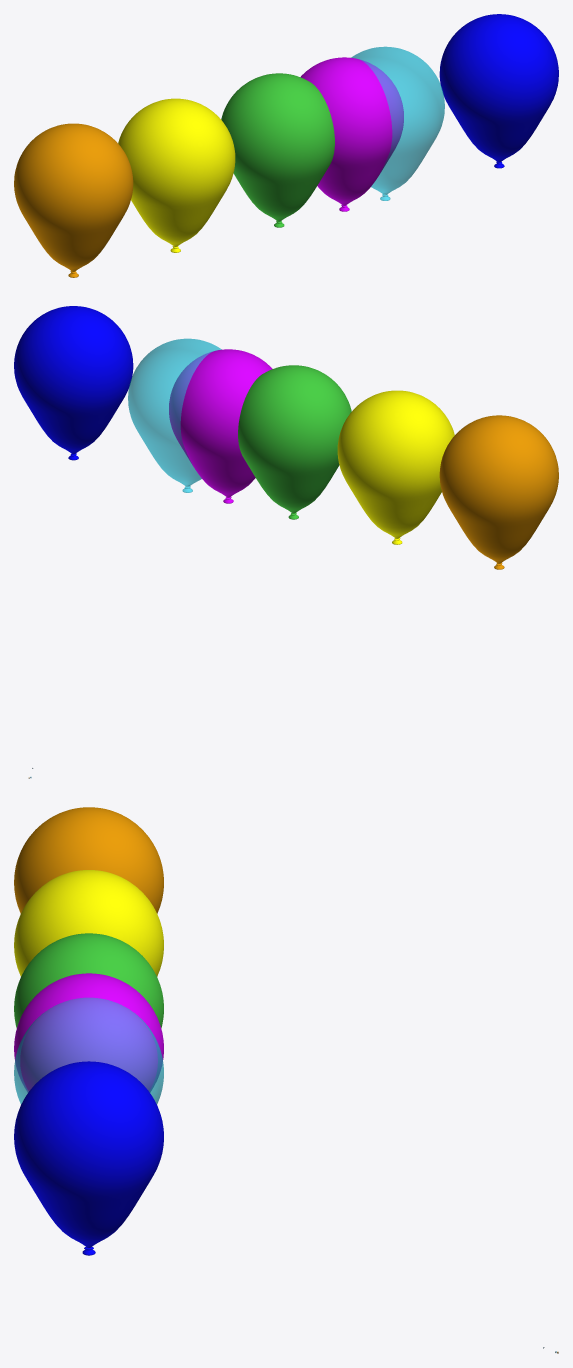
File: Purple Balloon.fbx
The picture shows the model from 3 angles, top to bottom: view 1: azimuth 30°, elevation 25°; view 2: azimuth 150°, elevation 25°; view 3: azimuth 270°, elevation 25°; orthographic projection. The views are drawn at different scales.
Parts seen in each view (by area): view 1: Sphere.001, Sphere.004, Sphere, Sphere.003, Sphere.005, Sphere.002; view 2: Sphere.004, Sphere.001, Sphere, Sphere.003, Sphere.005, Sphere.002; view 3: Sphere.001, Sphere.005, Sphere.002, Sphere, Sphere.004, Sphere.003.
Part boxes in pixels (x1,y1,x2,y2): Sphere.001: [439, 14, 558, 168]; Sphere.004: [14, 123, 133, 277]; Sphere: [118, 98, 235, 252]; Sphere.003: [221, 73, 334, 227]; Sphere.005: [300, 57, 403, 211]; Sphere.002: [351, 46, 444, 200]; Sphere.004: [439, 415, 558, 569]; Sphere.001: [14, 306, 133, 460]; Sphere: [337, 390, 454, 544]; Sphere.003: [238, 365, 351, 519]; Sphere.005: [169, 349, 272, 503]; Sphere.002: [128, 338, 221, 492]; Sphere.001: [14, 1061, 163, 1255]; Sphere.005: [14, 973, 163, 1091]; Sphere.002: [14, 997, 163, 1104]; Sphere: [14, 870, 163, 976]; Sphere.004: [14, 807, 163, 913]; Sphere.003: [14, 933, 163, 1028].
Bounding box in the file's own units: 15418 × 8248 × 10938.
